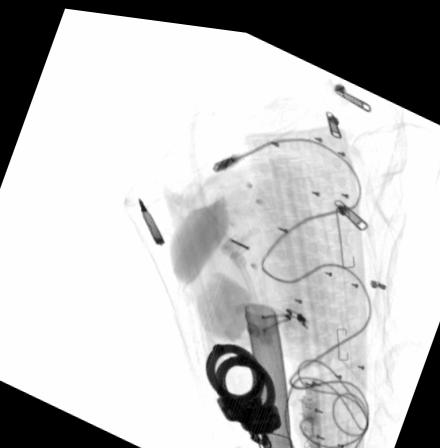Bullet: (136, 193, 165, 241)
HandCuffs: (204, 335, 281, 443)
